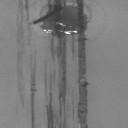slag inclusion: (27, 0, 89, 128), (14, 0, 29, 110), (30, 51, 38, 128)
